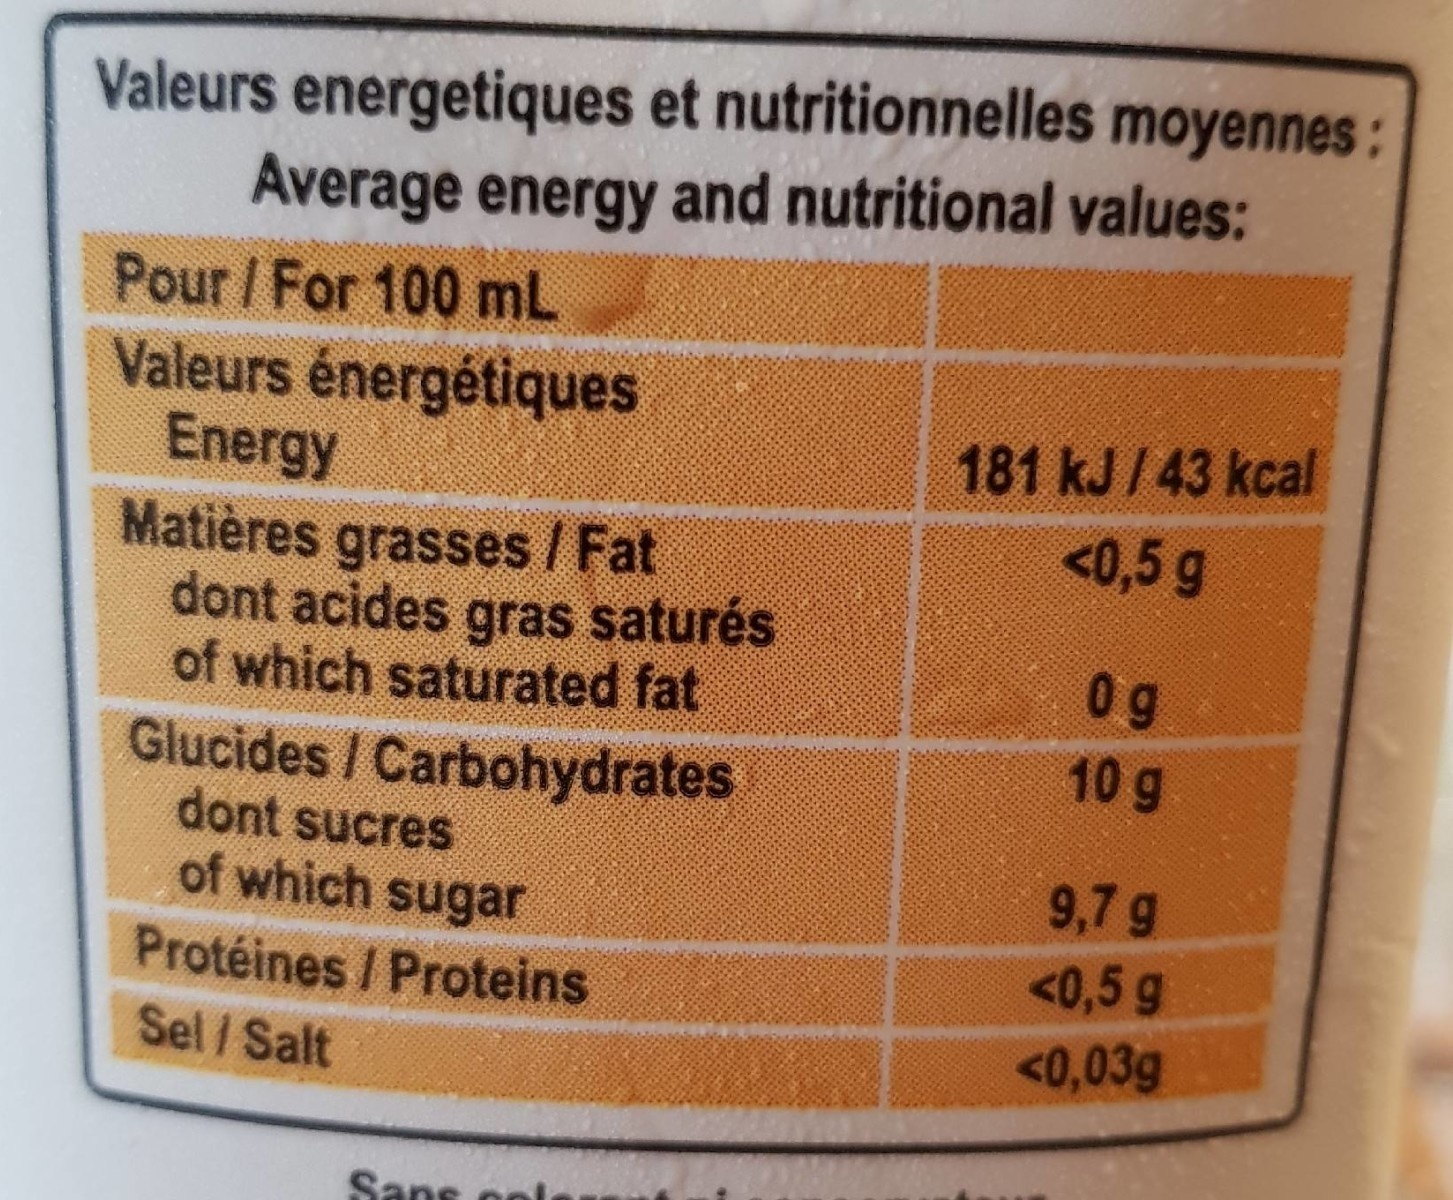column: (83, 234, 894, 1107), (934, 249, 1299, 1096)
table: (78, 228, 1294, 1095)
